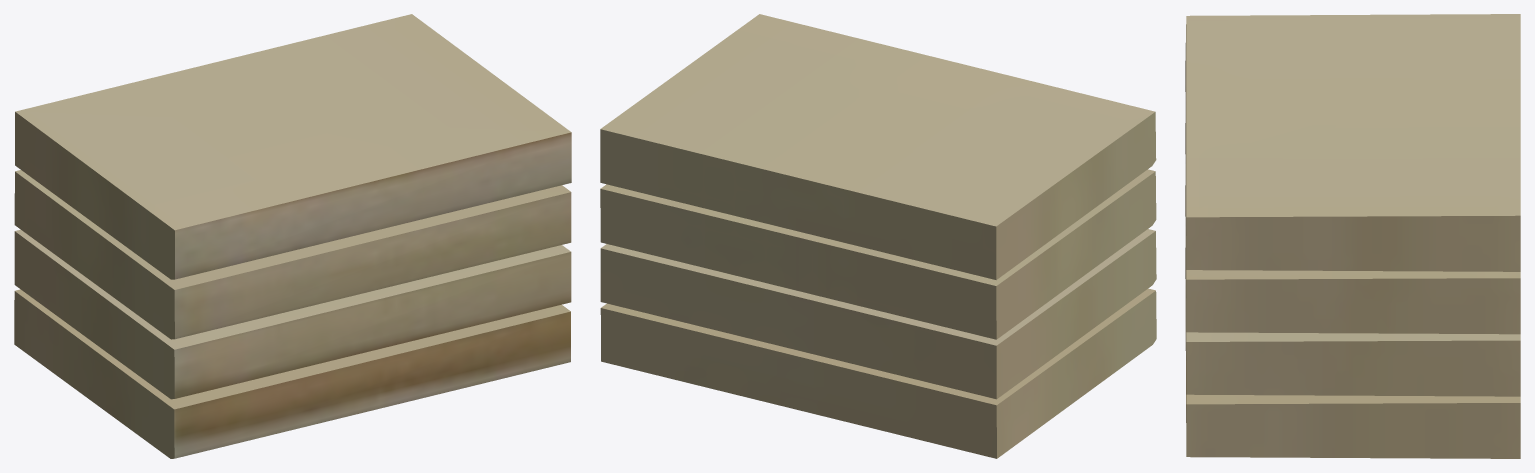
File: book3_h3.dae
The picture shows the model from 3 angles, left to right: view 1: azimuth 30°, elevation 25°; view 2: azimuth 150°, elevation 25°; view 3: azimuth 270°, elevation 25°; orthographic projection. The views are drawn at different scales.
Parts seen in each view (by area): view 1: node; view 2: node; view 3: node.
Part boxes in pixels (bbox=[...]): node: bbox=[14, 14, 571, 458]; node: bbox=[600, 14, 1156, 458]; node: bbox=[1185, 14, 1520, 458].
Size of the model in its own units: 0.1721 by 0.0966 by 0.1201.
Materials: 1 (1 with a texture image).
